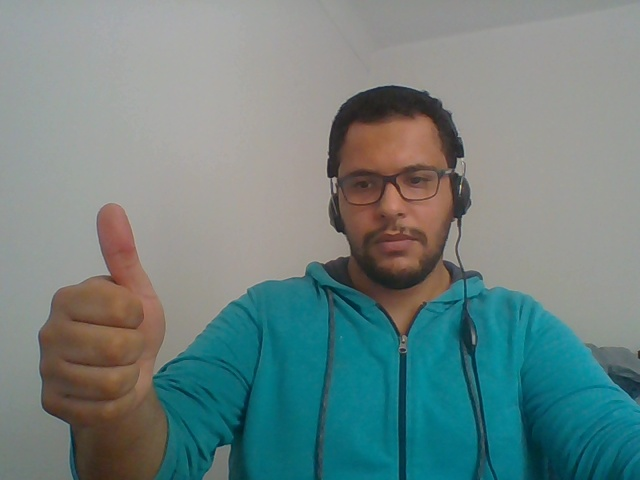ok: (23, 187, 195, 480)
